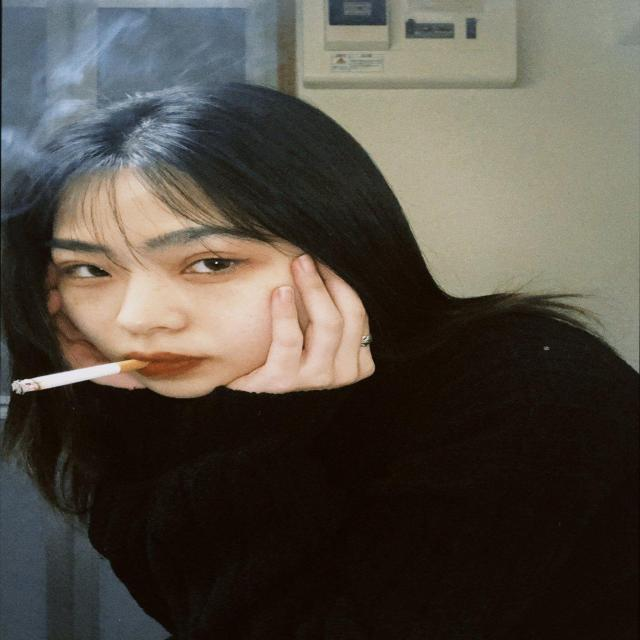cigarette: (3, 358, 188, 413)
